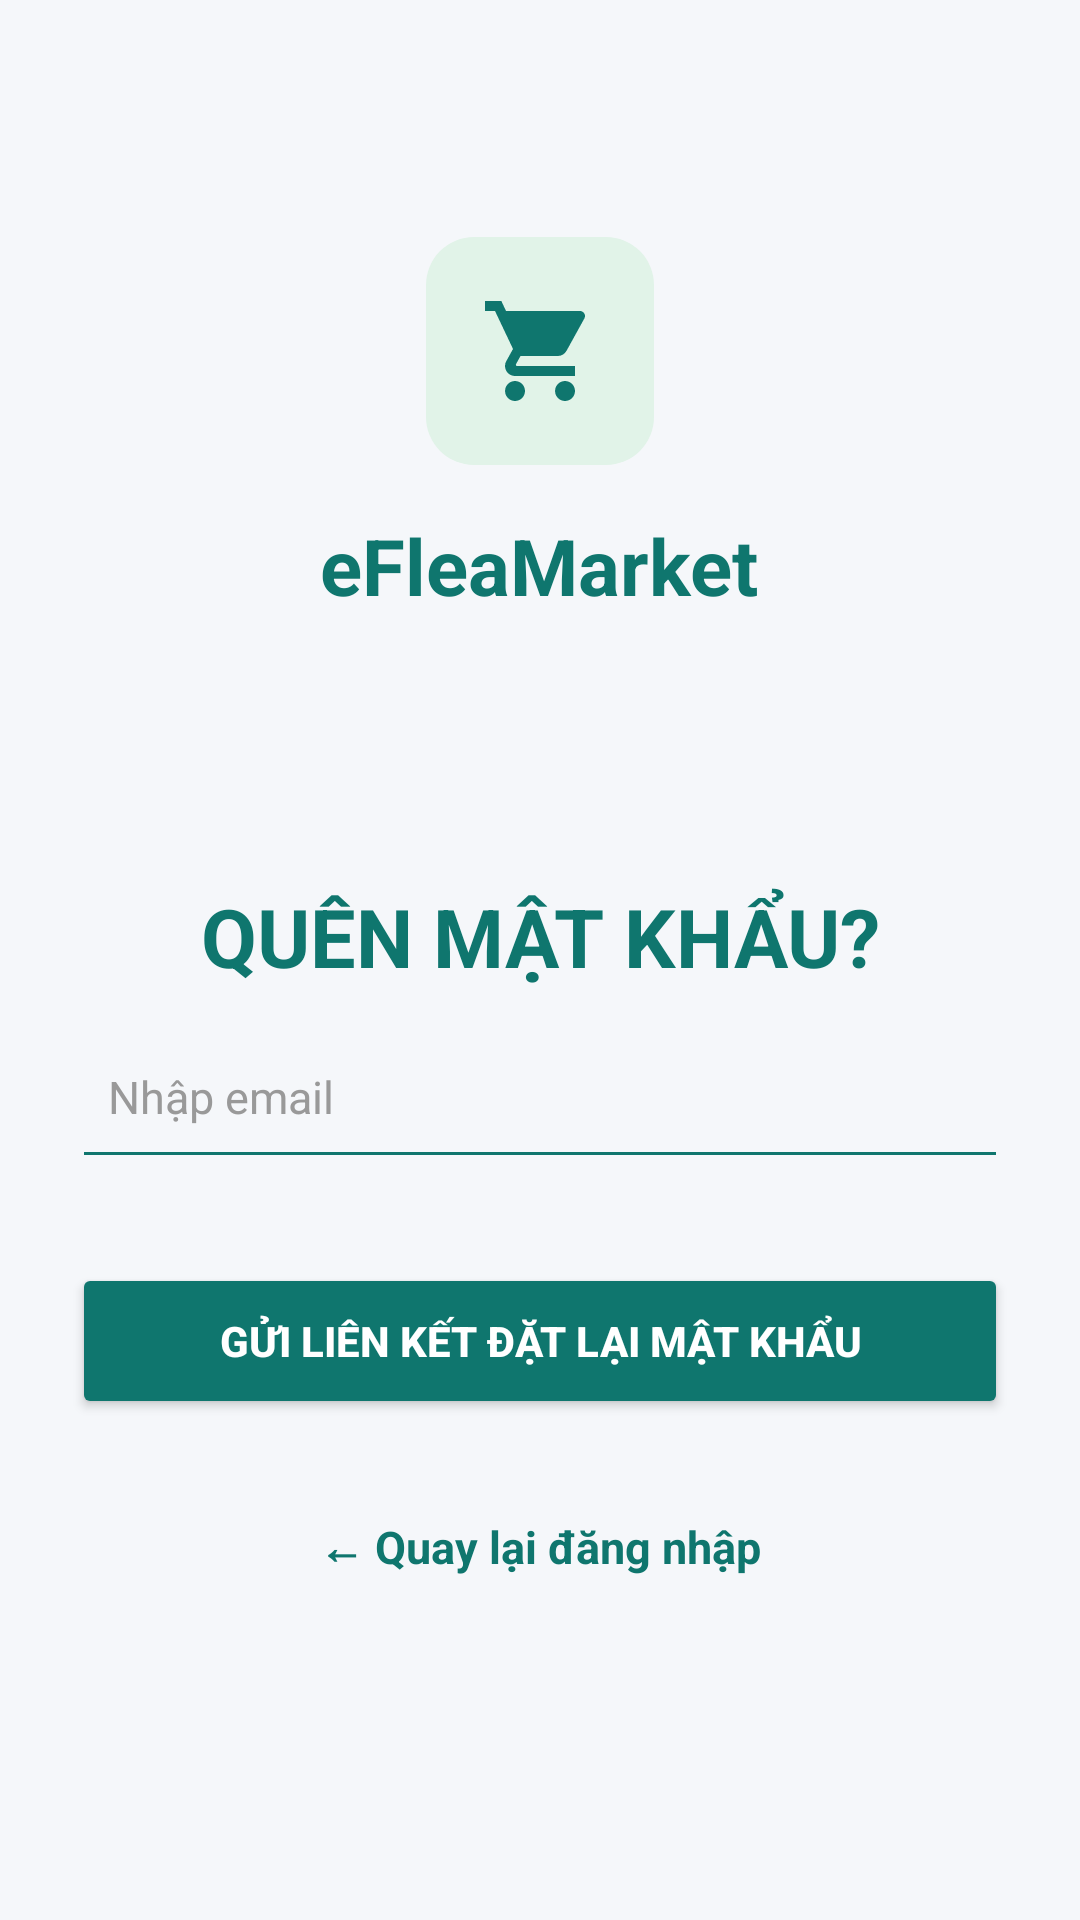

Icons on this 1080w x 1920h Android screen, each with its box as (x1, y1, x2, y2):
shopping cart: (426, 237, 654, 465)
